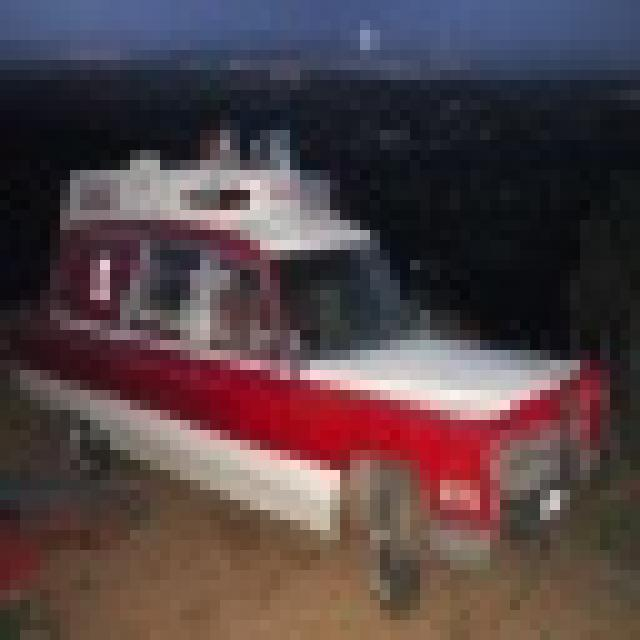Ambulance: (0, 110, 610, 600)
